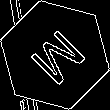M_SE: (21, 21, 89, 89)
